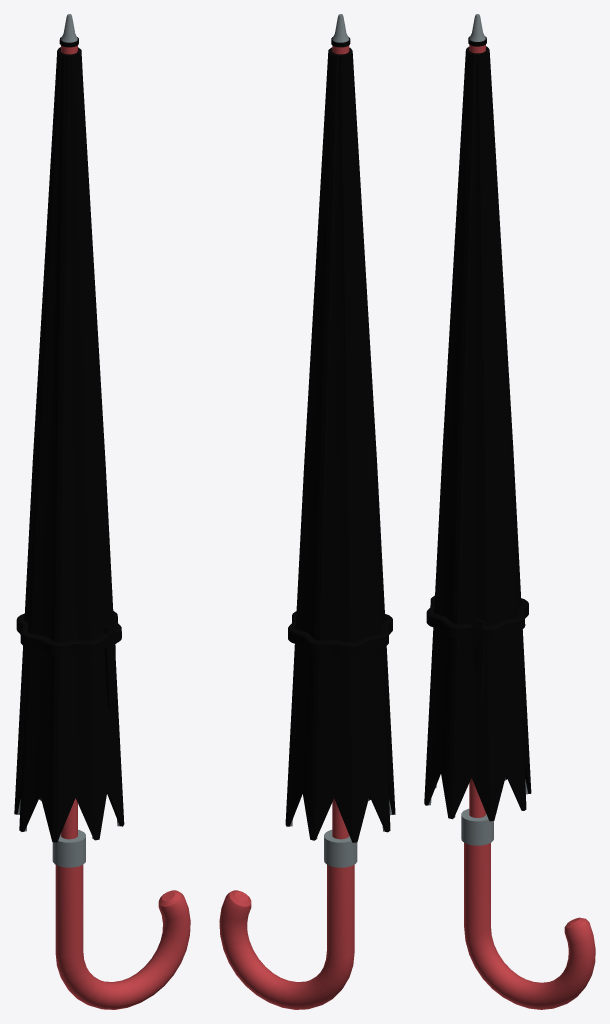
File: umbrella_closed.glb
The picture shows the model from 3 angles, left to right: view 1: azimuth 30°, elevation 25°; view 2: azimuth 150°, elevation 25°; view 3: azimuth 330°, elevation 25°; orthographic projection. The views are drawn at different scales.
Visible parts, largest first — view 1: umbrella_closed; view 2: umbrella_closed; view 3: umbrella_closed.
Boxes of the visible parts, <box> form: umbrella_closed: <box>14,14,190,1009</box>; umbrella_closed: <box>219,14,395,1009</box>; umbrella_closed: <box>424,14,595,1009</box>.
Bounding box in the file's own units: 0.1751 × 1 × 0.1014.
